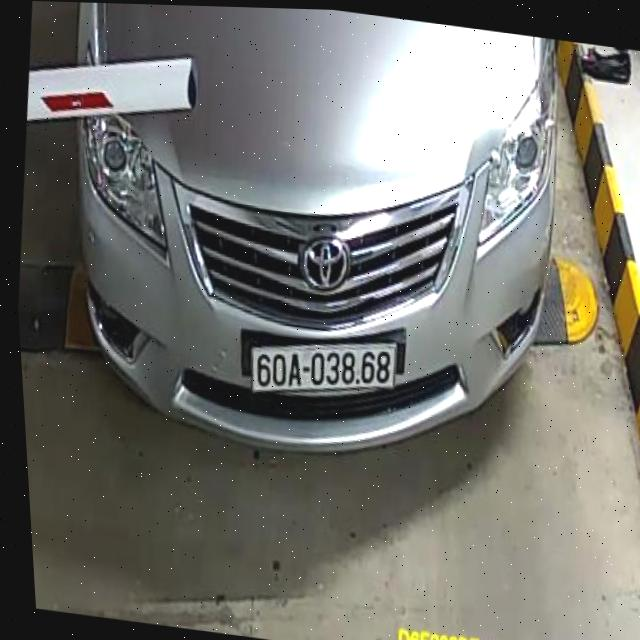car: (24, 1, 599, 489)
plate: (245, 327, 399, 408)
